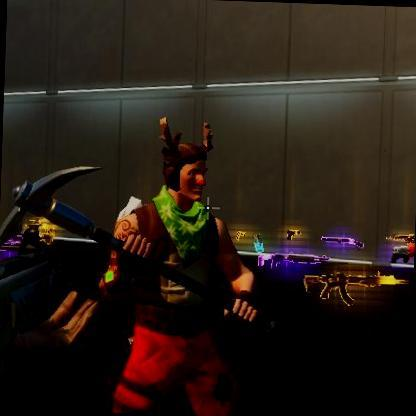person: (90, 136, 294, 416)
